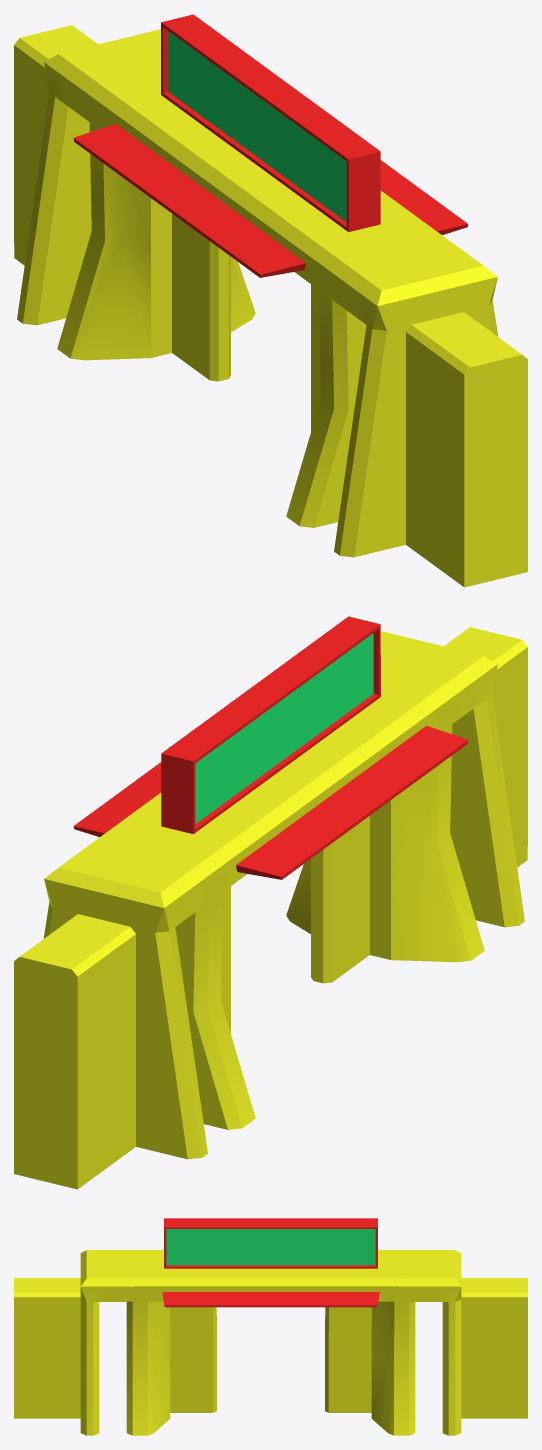
File: checkpoint.FBX
The picture shows the model from 3 angles, top to bottom: view 1: azimuth 30°, elevation 25°; view 2: azimuth 150°, elevation 25°; view 3: azimuth 270°, elevation 25°; orthographic projection. The views are drawn at different scales.
Parts seen in each view (by area): view 1: checkpoint; view 2: checkpoint; view 3: checkpoint.
Part boxes in pixels (<box>): checkpoint: <box>14,14,527,587</box>; checkpoint: <box>14,616,527,1189</box>; checkpoint: <box>14,1218,527,1435</box>.
Bounding box in the file's own units: 100 × 152 × 377.
